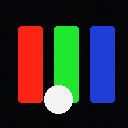2 circle: (44, 85, 72, 113)
